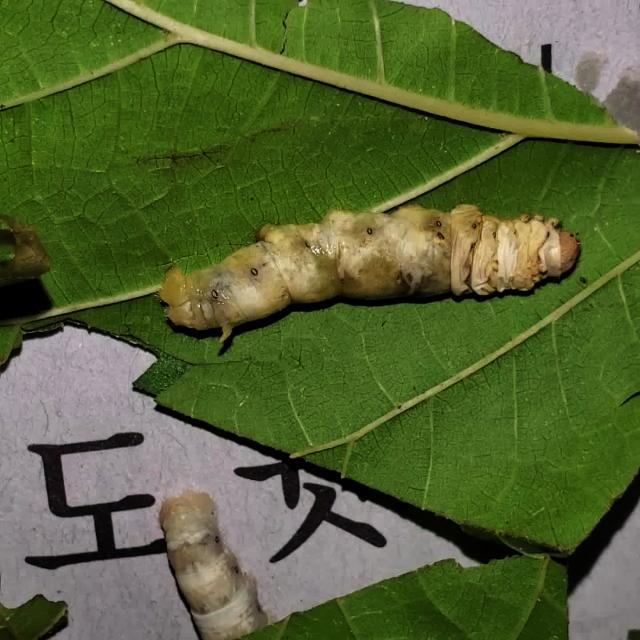Grasserie: (145, 184, 588, 349)
